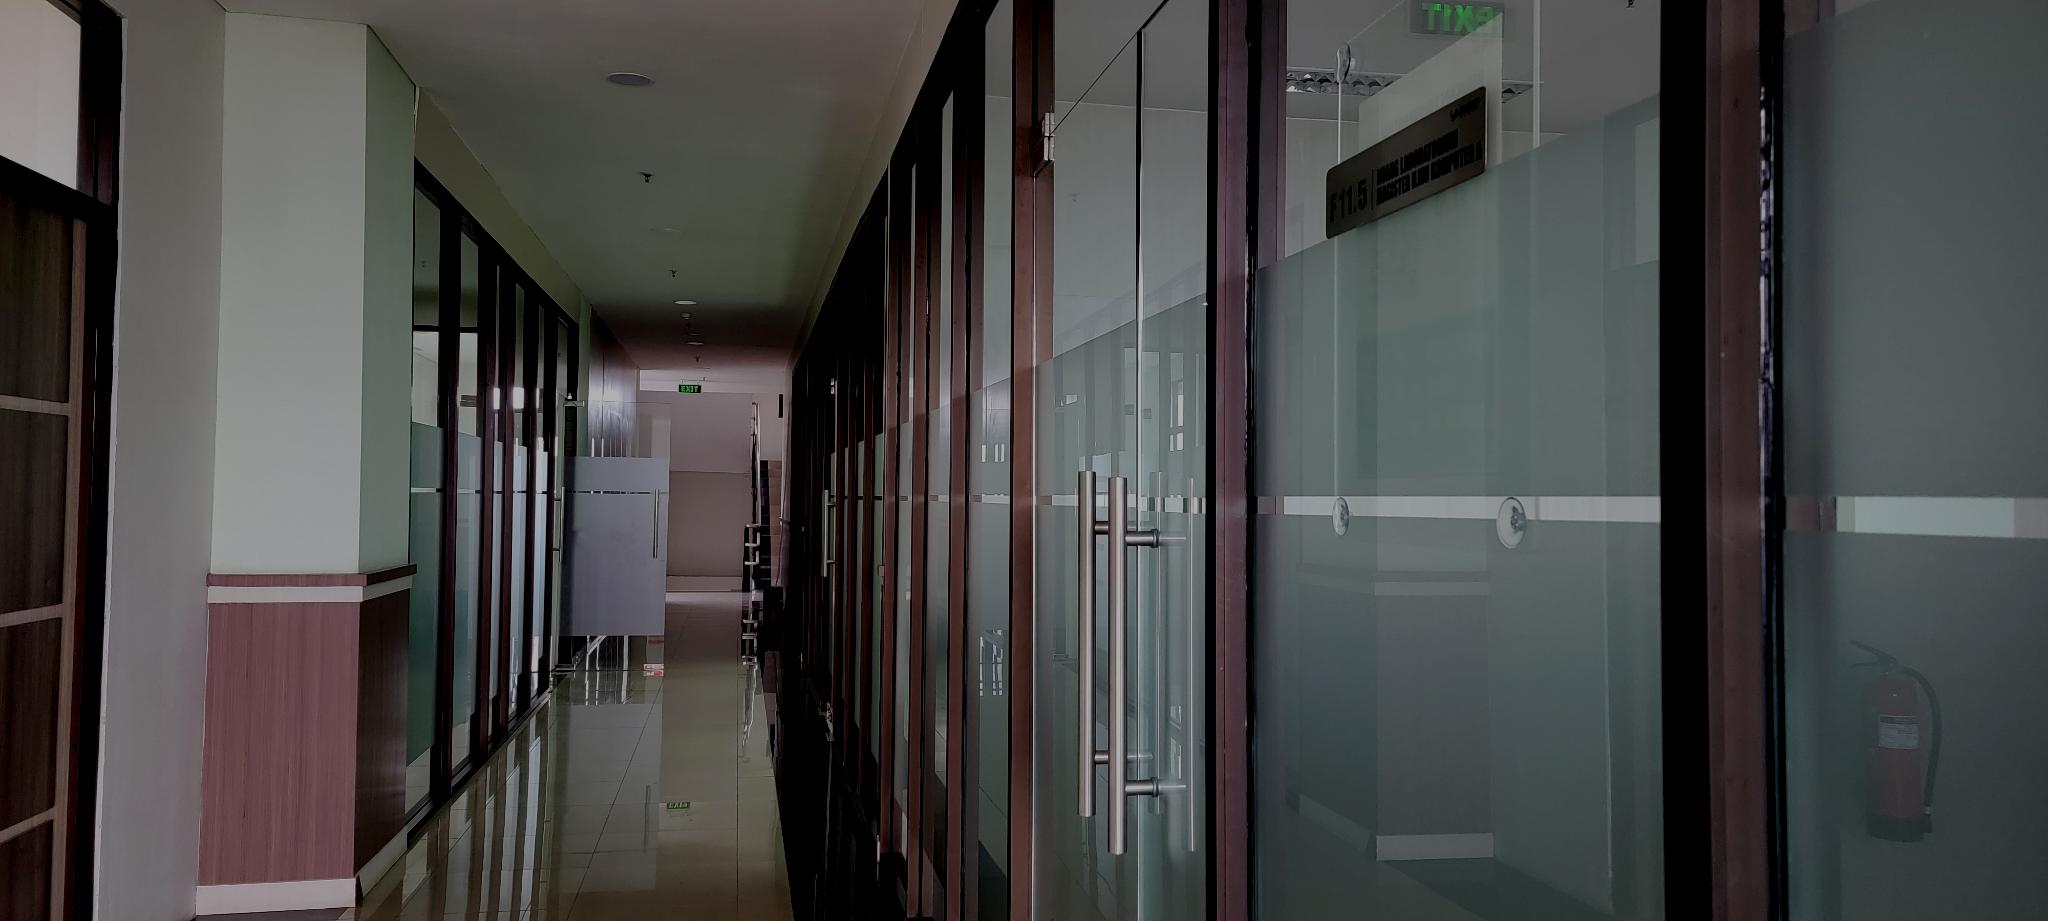plate: (1323, 86, 1488, 242)
